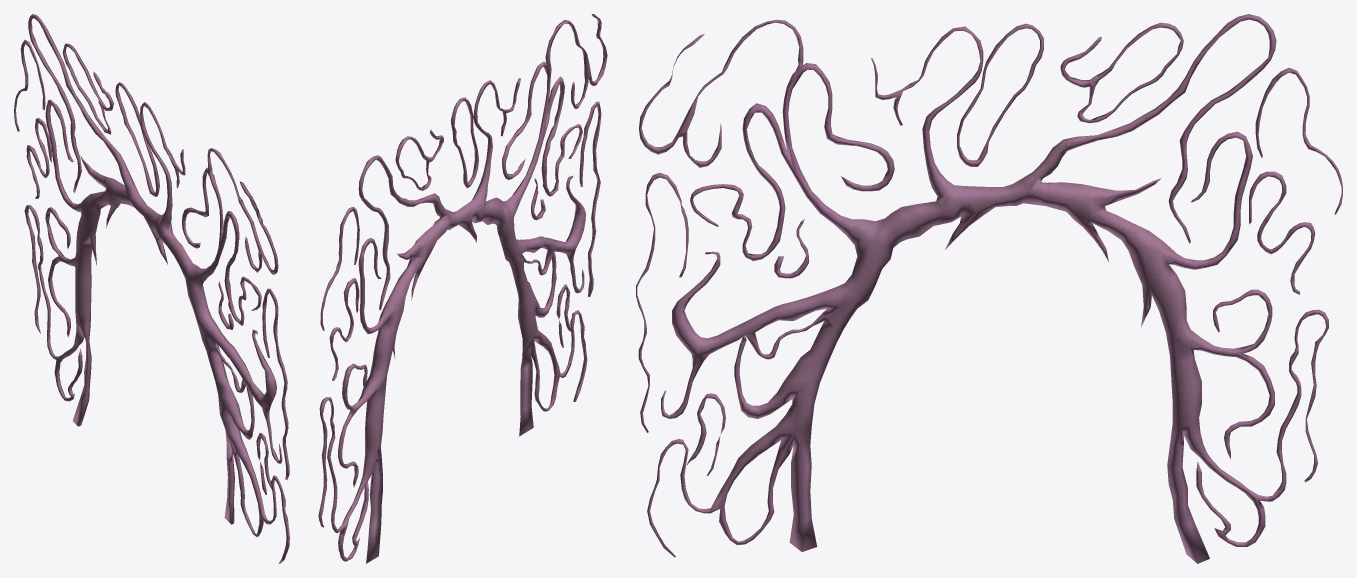
File: neon_vascular_tree.glb
The picture shows the model from 3 angles, left to right: view 1: azimuth 30°, elevation 25°; view 2: azimuth 150°, elevation 25°; view 3: azimuth 270°, elevation 25°; orthographic projection. The views are drawn at different scales.
Parts seen in each view (by area): view 1: tripo_node_fccf1d8f-b15a-437d-a0ee-11746666990e; view 2: tripo_node_fccf1d8f-b15a-437d-a0ee-11746666990e; view 3: tripo_node_fccf1d8f-b15a-437d-a0ee-11746666990e.
Part boxes in pixels (bbox=[...]): tripo_node_fccf1d8f-b15a-437d-a0ee-11746666990e: bbox=[14, 14, 289, 563]; tripo_node_fccf1d8f-b15a-437d-a0ee-11746666990e: bbox=[318, 14, 607, 563]; tripo_node_fccf1d8f-b15a-437d-a0ee-11746666990e: bbox=[636, 14, 1342, 563].
Size of the model in its own units: 0.9762 by 11.42 by 13.72.
Materials: 1 (1 with a texture image).
